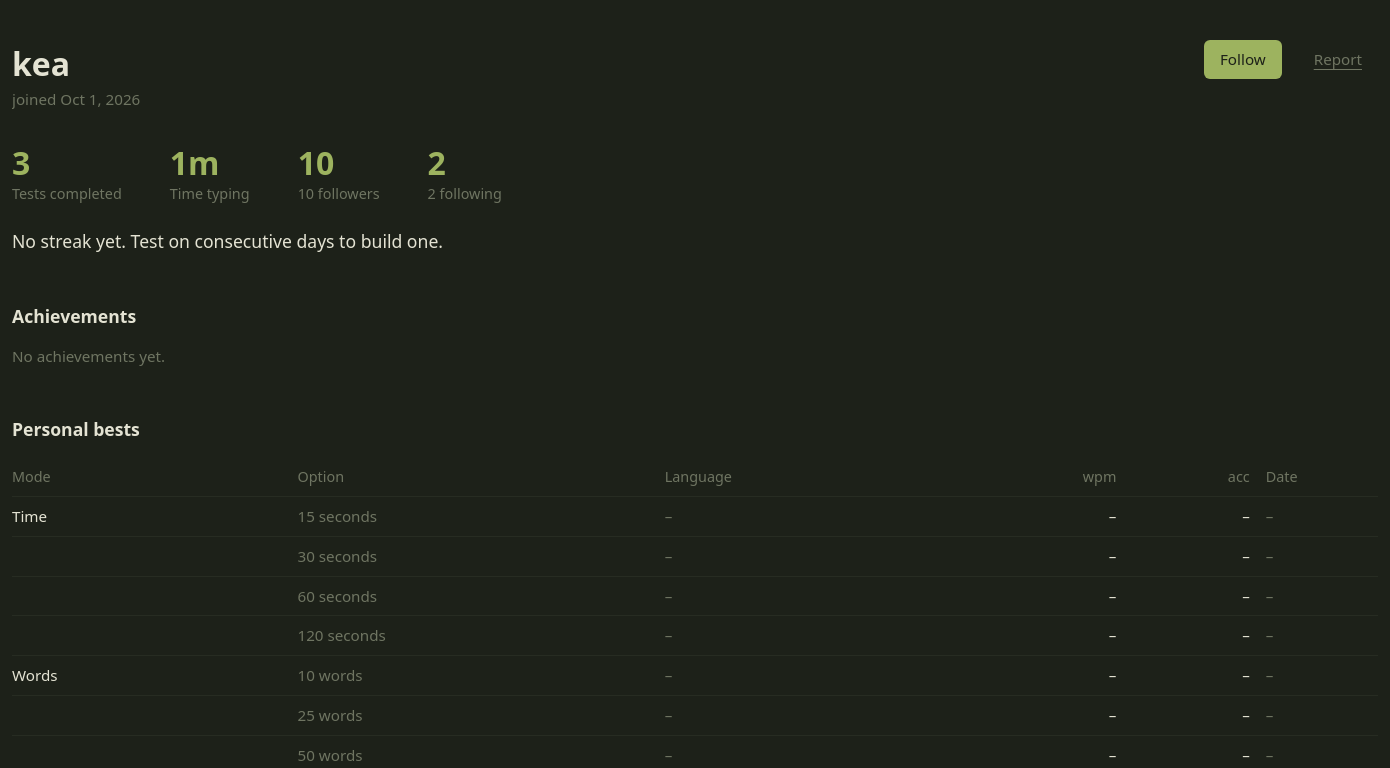
Test: follow button › flips and counts at once, then stays on the server state
Click the button "Follow" at (1243, 59), box [1204,40,1282,79]
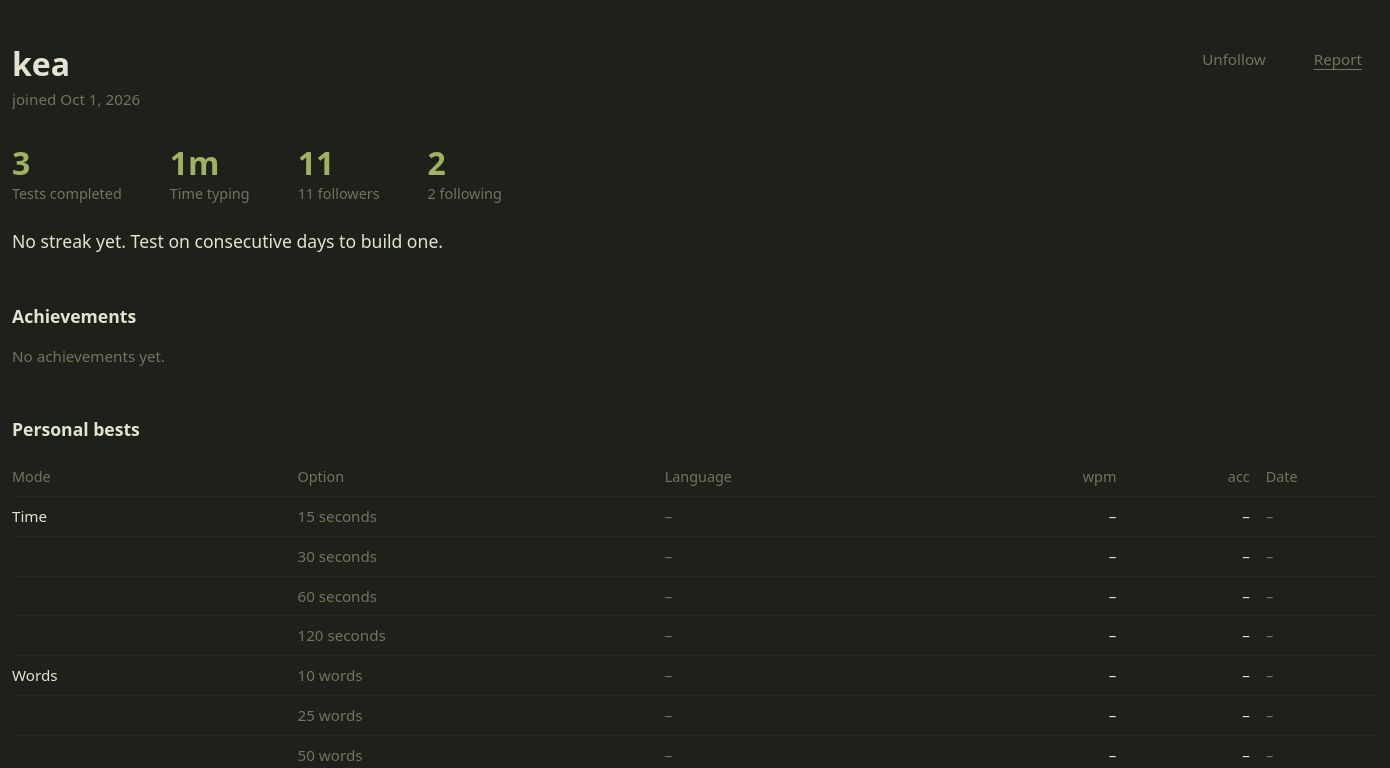
Expected: the button "Unfollow" is enabled, [1186,40,1282,79]
Expected: the button "Unfollow" is shown, [1186,40,1282,79]
Expected: the text "11 followers" is shown, [298,183,380,204]
